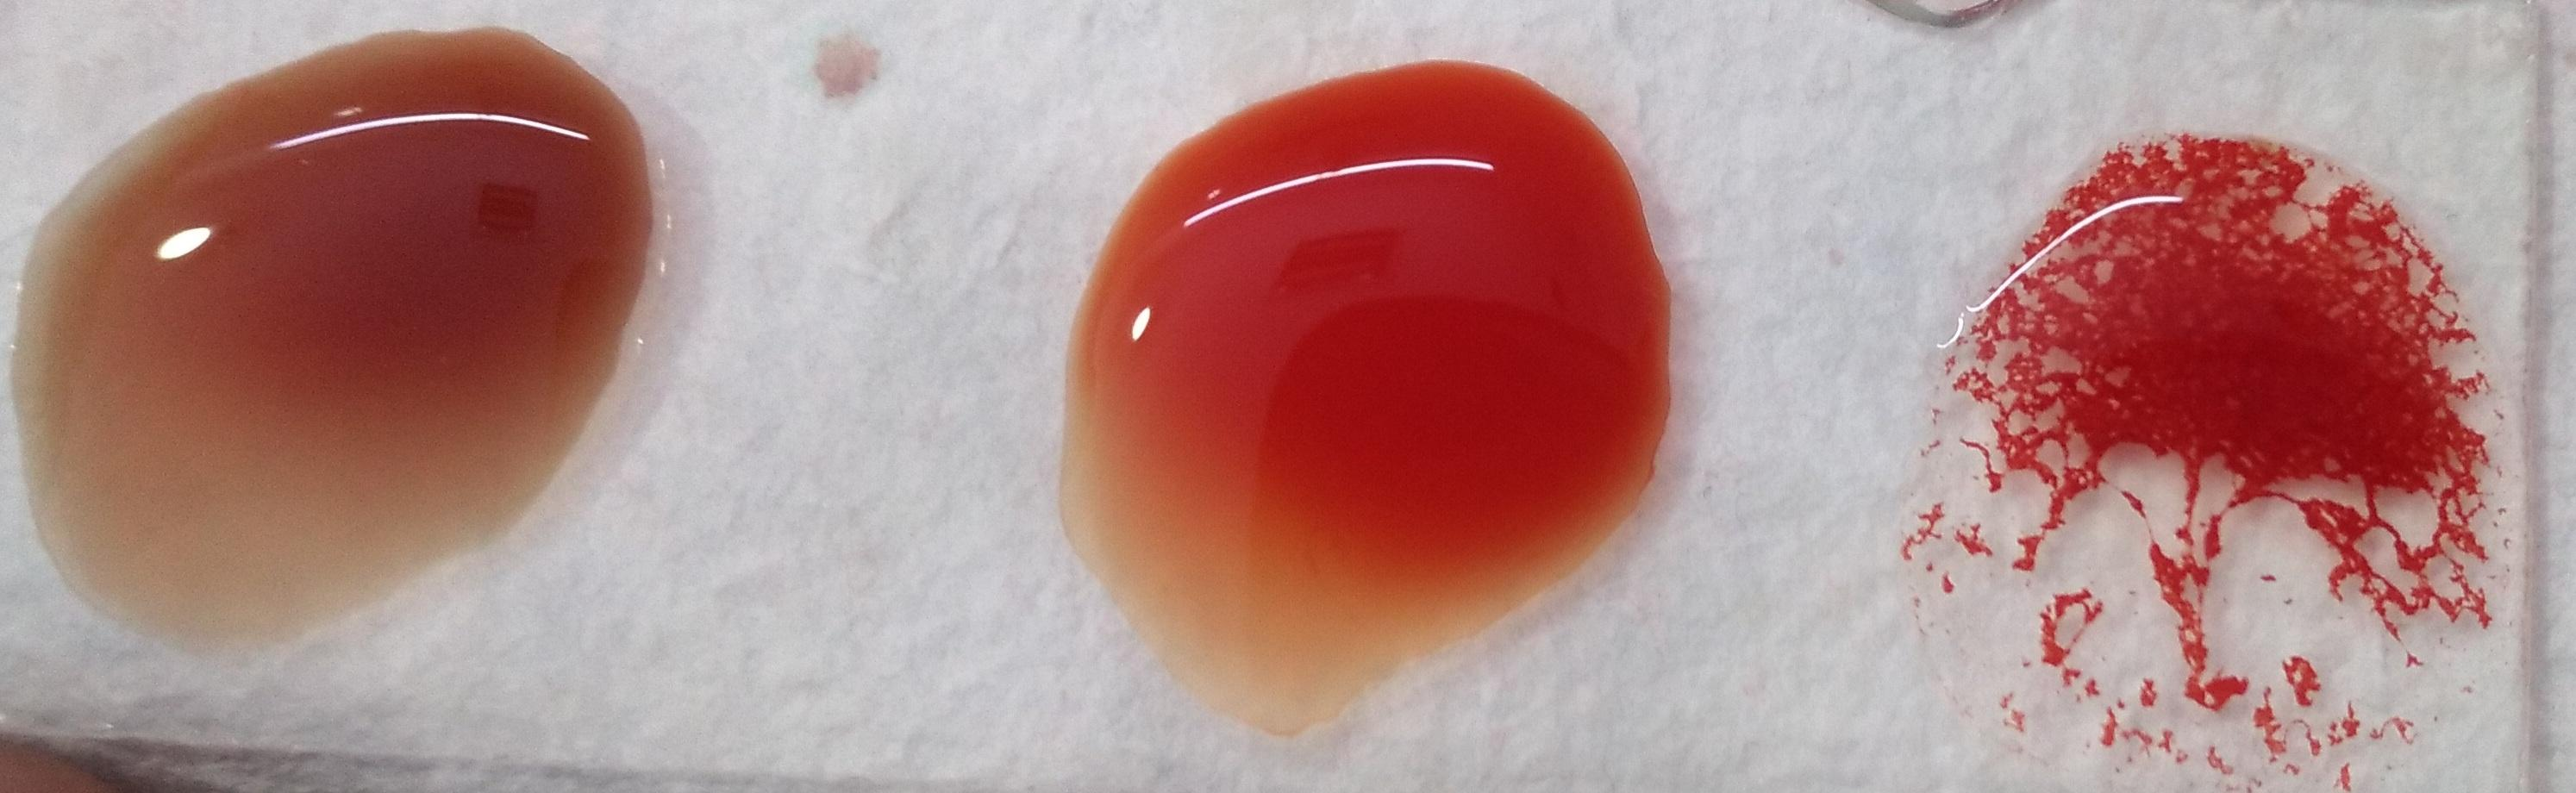D: (1929, 113, 2510, 793)
